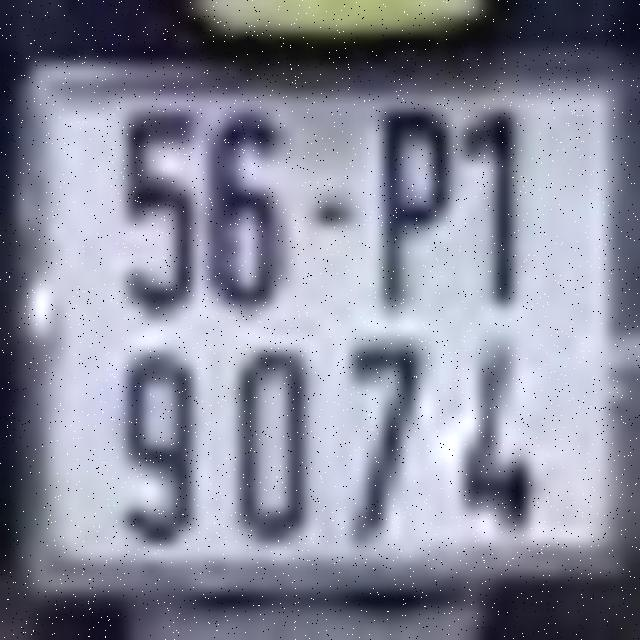0: (234, 341, 310, 542)
1: (463, 105, 522, 308)
4: (460, 336, 540, 538)
5: (121, 106, 197, 314)
6: (206, 106, 286, 310)
7: (344, 338, 422, 545)
9: (122, 347, 196, 547)
P: (373, 102, 454, 311)
